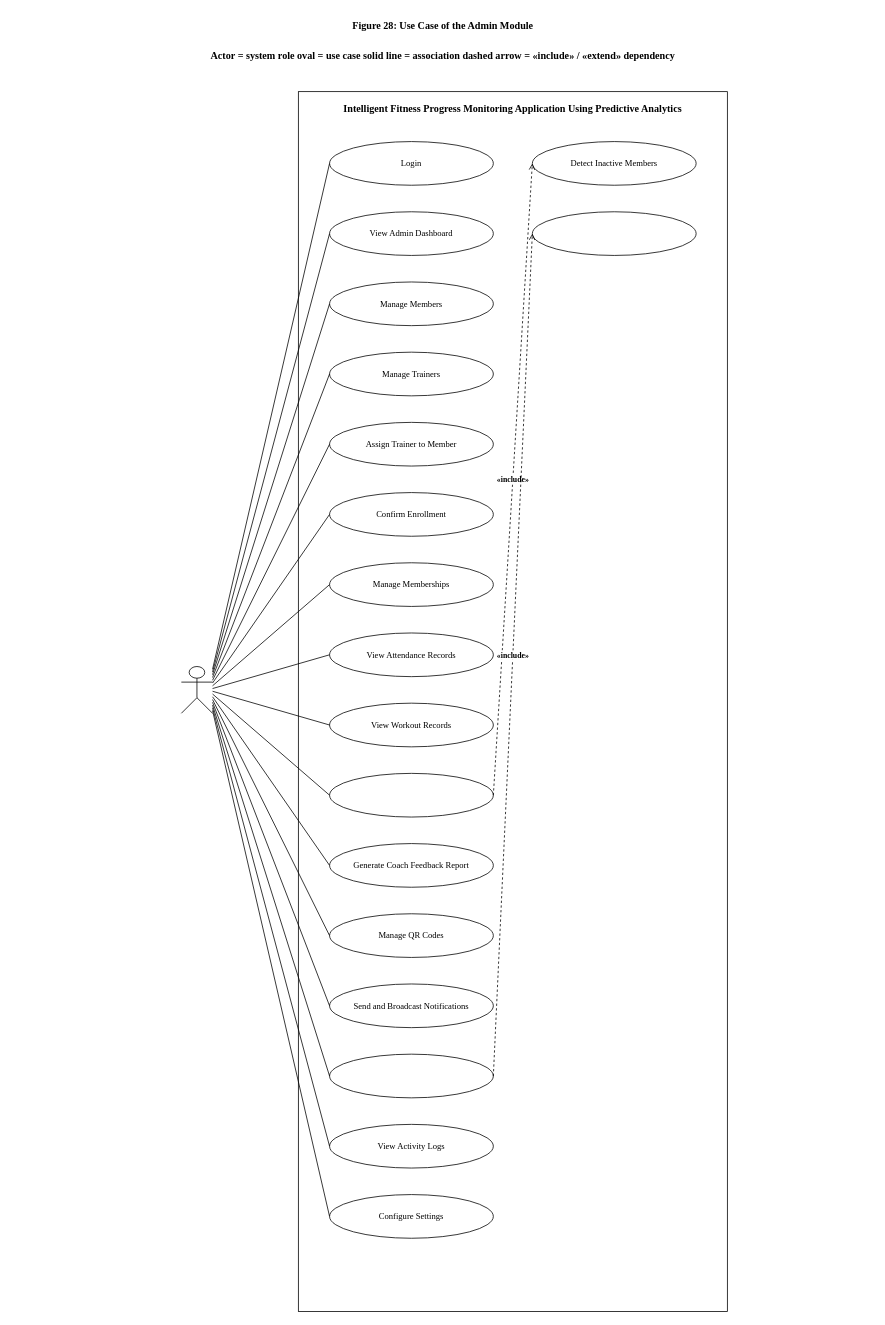
Image size: 885x1325. Some labels were removed from this diagram. The shapes that lost their labels are listed below. From the top down, each one's centre as x and y in pixels, then its label:
(x=614, y=233): Generate Progress Prediction
(x=197, y=689): Admin
(x=411, y=795): Generate Inactive Member Report
(x=411, y=1075): View Progress Predictions
